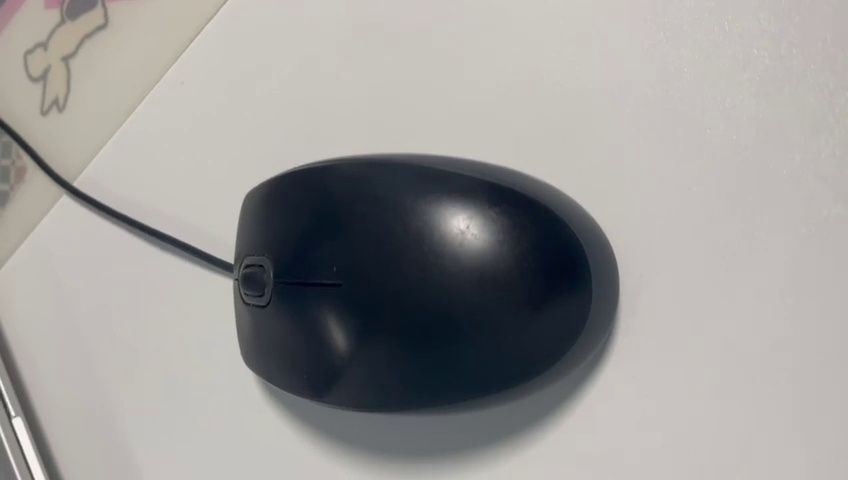objeto: (199, 136, 650, 433)
